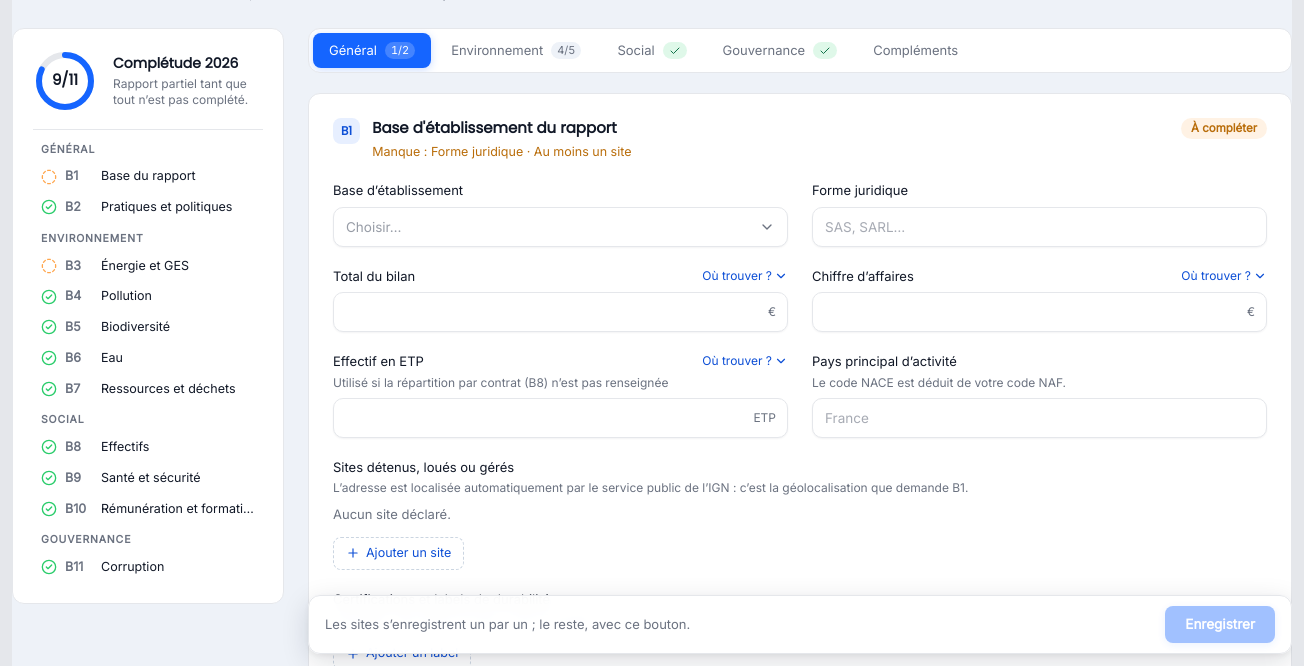
Test: IndicatorsPage › ajout d’un site : le géocodage du serveur est affiché, et la complétude relue
Click the button "Ajouter un site" at (399, 553), box top-left (333, 537), bottom-right (464, 570)
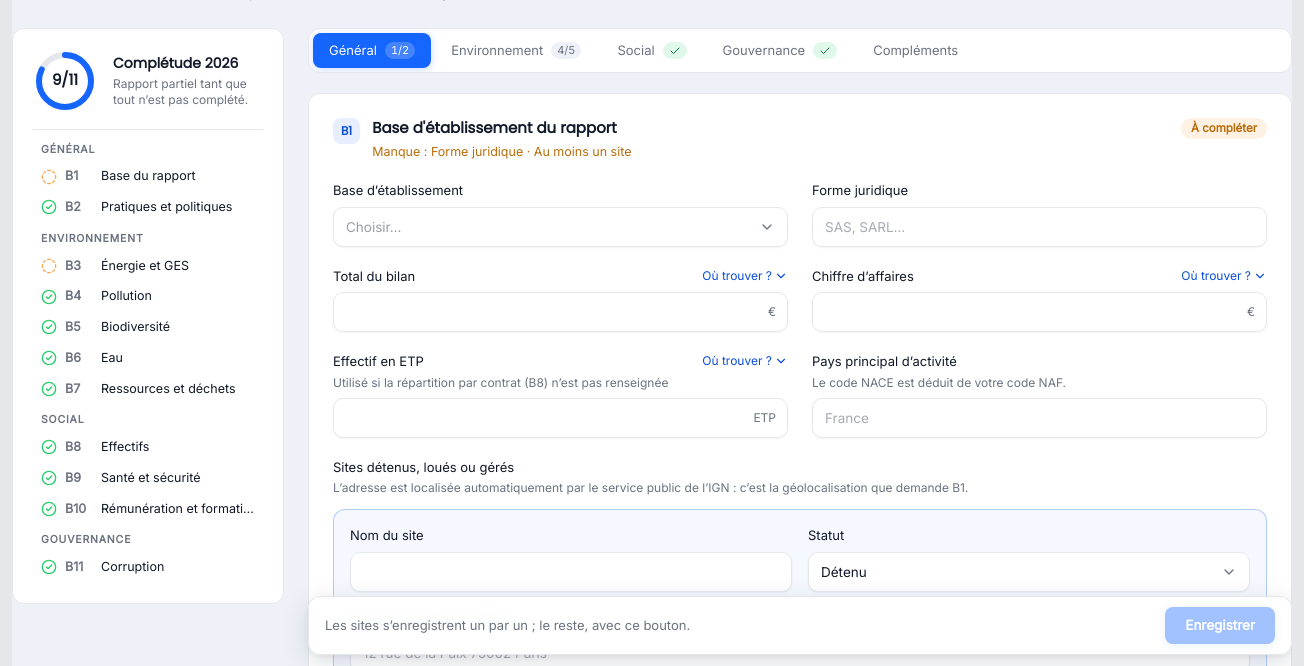
Type "Atelier" into the field labelled "Nom du site" at (571, 572), box top-left (350, 552), bottom-right (792, 592)
(page scrolled)
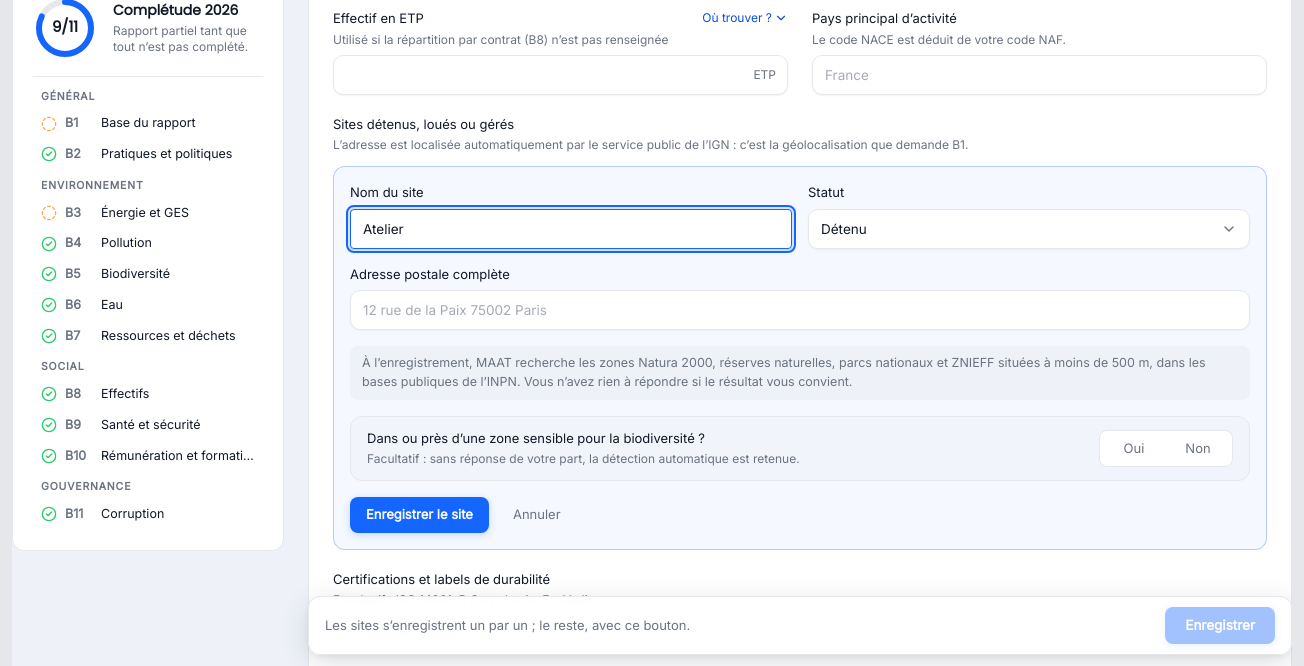
Type "Lieu-dit introuvable" into the field labelled "Adresse postale complète" at (800, 310), box top-left (350, 290), bottom-right (1250, 330)
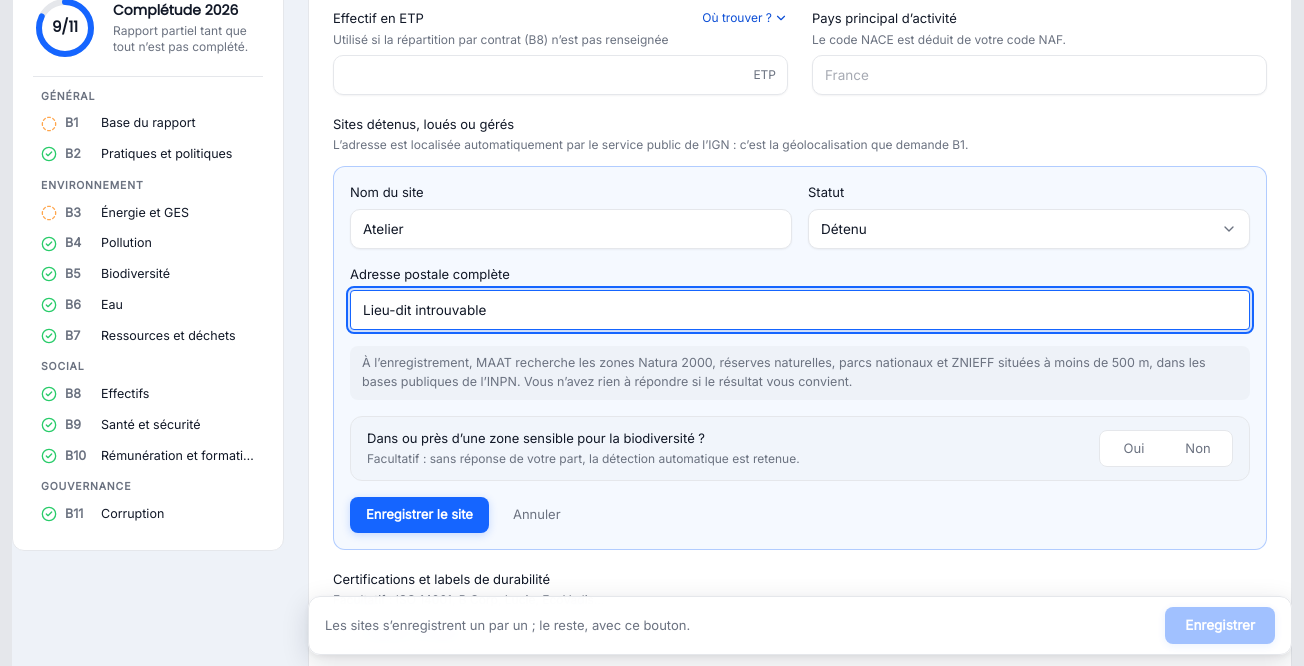
Click the button "Enregistrer le site" at (419, 515), box top-left (350, 497), bottom-right (489, 533)
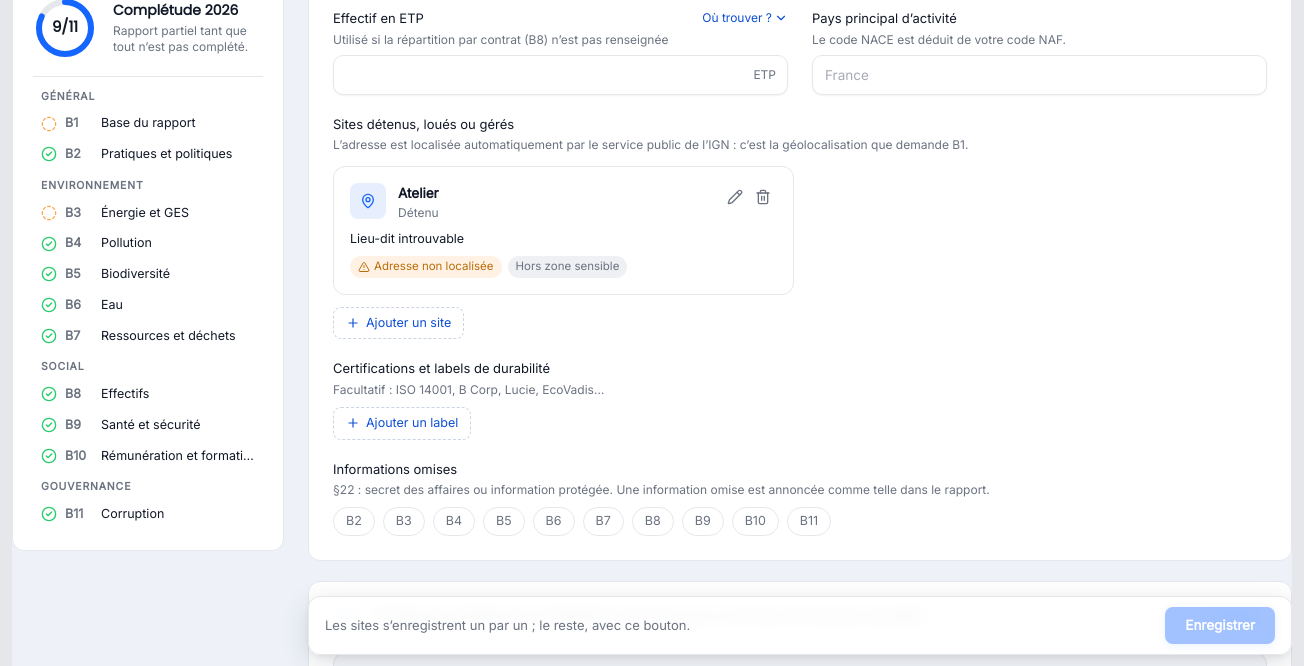
Expected: the text "Adresse non localisée" is shown, top-left (350, 256), bottom-right (502, 278)
